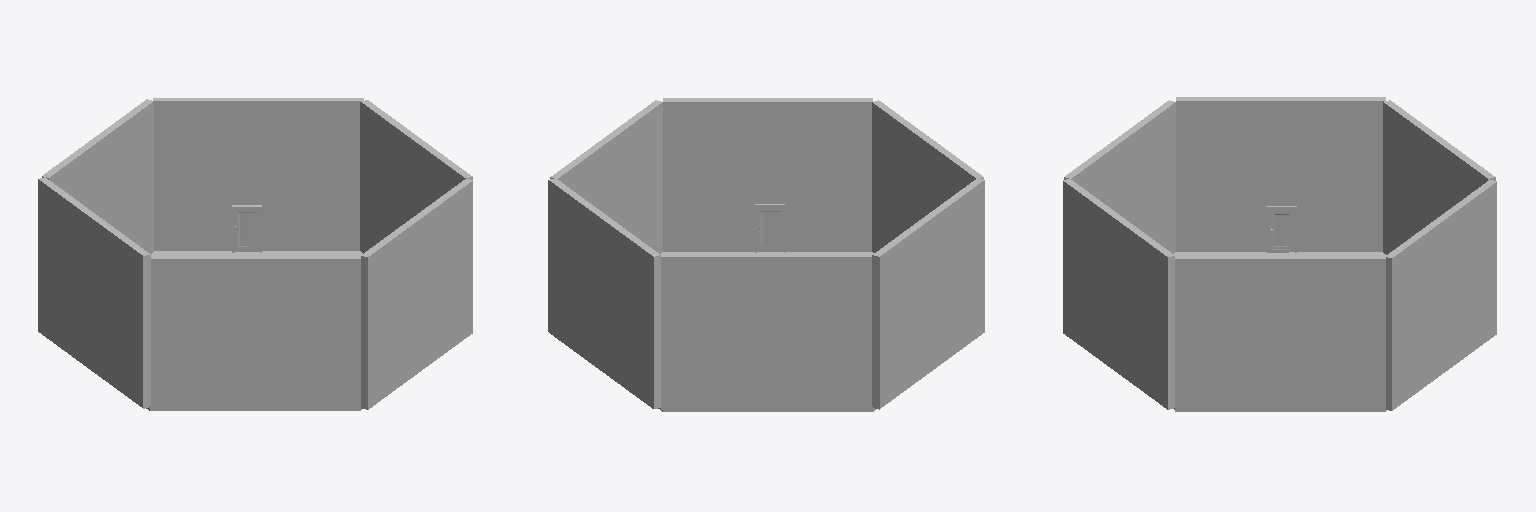
The model's file is start_room.obj.
The picture shows the model from 3 angles: view 1: azimuth 30°, elevation 25°; view 2: azimuth 150°, elevation 25°; view 3: azimuth 270°, elevation 25°; orthographic projection.
Parts seen in each view (by area): view 1: Wall-1.004_Cube.009, Wall-1.002_Cube.007, Wall-1.001_Cube.003, Wall-1.003_Cube.008, Wall-1.005_Cube.010, Wall-1_Cube.004, DoorBoddy_Cube.005_DoorBoddy_Cube.029, floor_Cylinder; view 2: Wall-1.005_Cube.010, Wall-1.003_Cube.008, Wall-1.001_Cube.003, Wall-1.002_Cube.007, Wall-1_Cube.004, Wall-1.004_Cube.009, DoorBoddy_Cube.007_DoorBoddy_Cube.031, floor_Cylinder; view 3: Wall-1_Cube.004, Wall-1.001_Cube.003, Wall-1.003_Cube.008, Wall-1.002_Cube.007, Wall-1.005_Cube.010, Wall-1.004_Cube.009, DoorBoddy_Cube.000_DoorBoddy_Cube.022, floor_Cylinder.
Part boxes in pixels (left/top/right/bottom): Wall-1.004_Cube.009: left=151, top=255, right=360, bottom=410; Wall-1.002_Cube.007: left=153, top=98, right=363, bottom=250; Wall-1.001_Cube.003: left=38, top=177, right=150, bottom=408; Wall-1.003_Cube.008: left=361, top=179, right=472, bottom=409; Wall-1.005_Cube.010: left=42, top=99, right=153, bottom=253; Wall-1_Cube.004: left=360, top=100, right=472, bottom=253; DoorBoddy_Cube.005_DoorBoddy_Cube.029: left=234, top=208, right=260, bottom=251; floor_Cylinder: left=146, top=251, right=362, bottom=410; Wall-1.005_Cube.010: left=661, top=253, right=871, bottom=409; Wall-1.003_Cube.008: left=663, top=98, right=872, bottom=251; Wall-1.001_Cube.003: left=872, top=178, right=984, bottom=409; Wall-1.002_Cube.007: left=548, top=178, right=660, bottom=408; Wall-1_Cube.004: left=550, top=100, right=662, bottom=253; Wall-1.004_Cube.009: left=872, top=100, right=983, bottom=252; DoorBoddy_Cube.007_DoorBoddy_Cube.031: left=757, top=207, right=783, bottom=251; floor_Cylinder: left=658, top=252, right=875, bottom=411; Wall-1_Cube.004: left=1175, top=256, right=1385, bottom=411; Wall-1.001_Cube.003: left=1176, top=97, right=1385, bottom=251; Wall-1.003_Cube.008: left=1063, top=179, right=1174, bottom=409; Wall-1.002_Cube.007: left=1386, top=180, right=1496, bottom=410; Wall-1.005_Cube.010: left=1383, top=100, right=1495, bottom=254; Wall-1.004_Cube.009: left=1064, top=100, right=1175, bottom=253; DoorBoddy_Cube.000_DoorBoddy_Cube.022: left=1269, top=208, right=1294, bottom=252; floor_Cylinder: left=1174, top=252, right=1386, bottom=410.
Bounding box in the file's own units: 36.13 × 16.4 × 41.27.